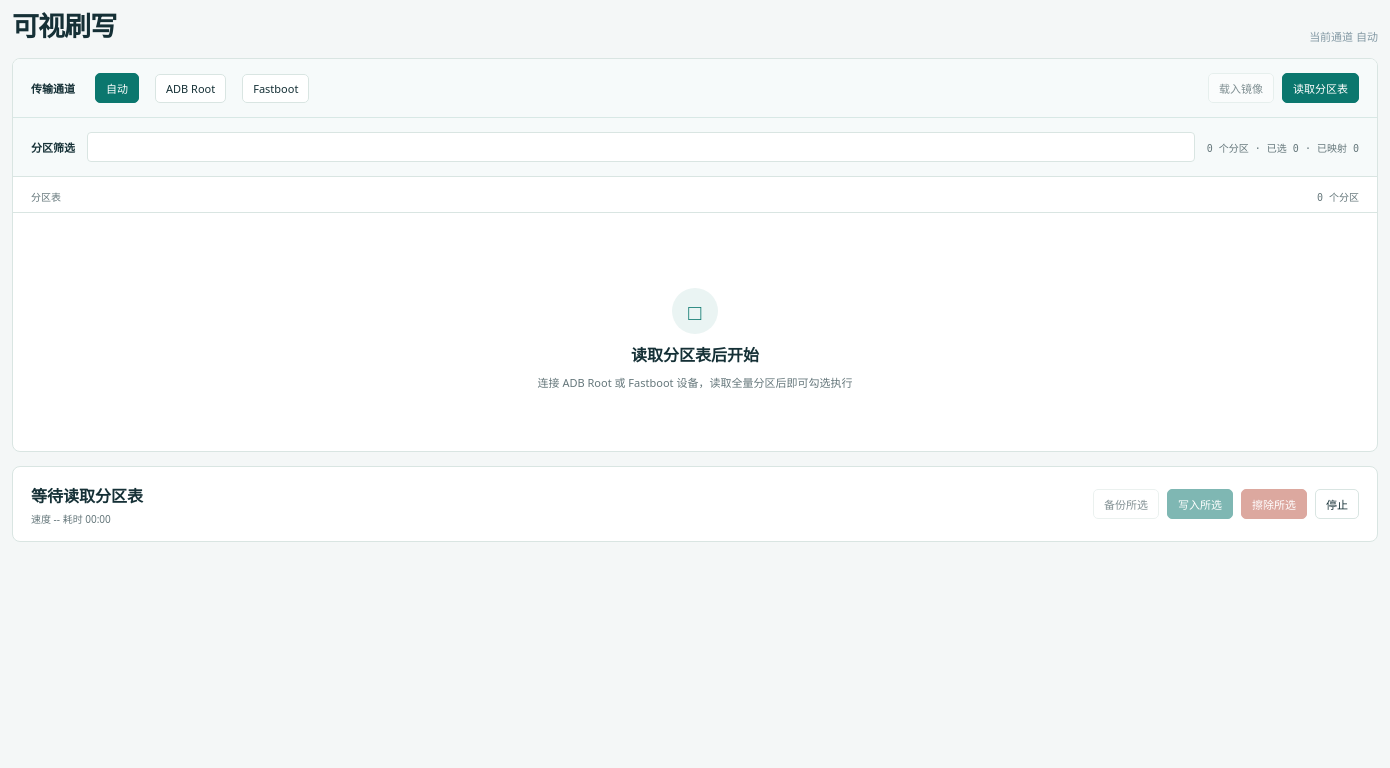
LineFlashPage › 只在用户点击读取分区表时请求快照，并只投影安全分区信息
This screenshot has width=1390, height=768.
Step 1. Click the button with class "nw-test-line-partitions-refresh" → (1320, 88), box [1282, 73, 1359, 103]
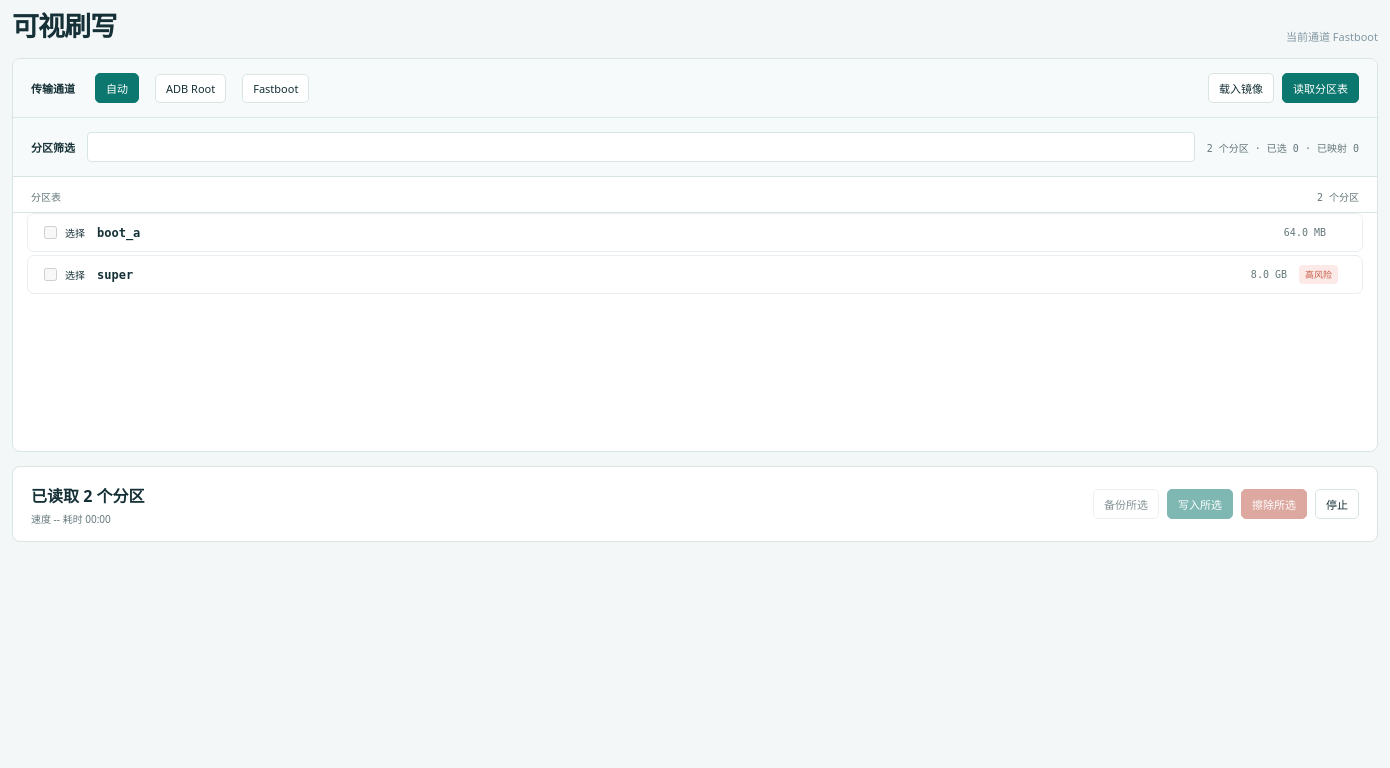
Now the text "boot_a" is shown, box [97, 226, 140, 240]
Now the text "高风险" is shown, box [1299, 265, 1338, 284]
